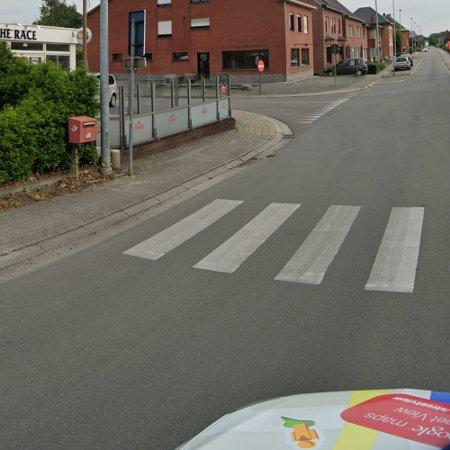crosswalks: (121, 197, 420, 295)
